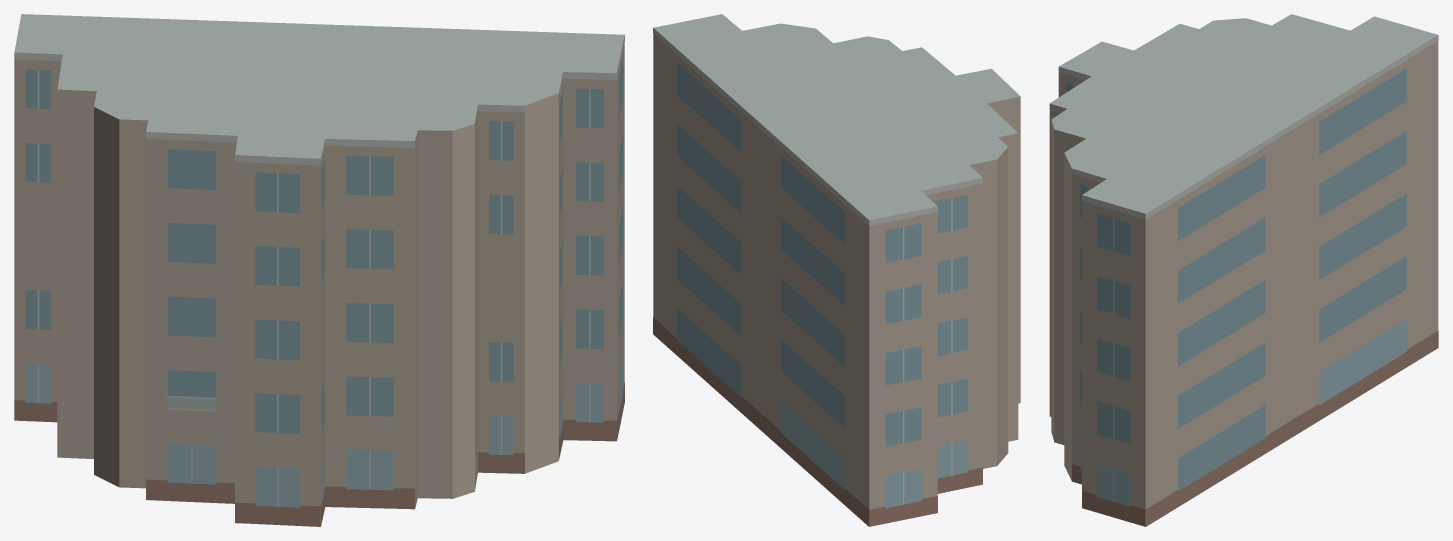
Rendered from survey-upis-32804501.glb.
3 renders of one model, left to right at view 1: azimuth 30°, elevation 25°; view 2: azimuth 150°, elevation 25°; view 3: azimuth 270°, elevation 25°, orthographic. The views are drawn at different scales.
Parts seen in each view (by area): view 1: survey-upis-32804501.tmp; view 2: survey-upis-32804501.tmp; view 3: survey-upis-32804501.tmp.
Boxes of the visible parts, x1,y1,x2,y2 form: survey-upis-32804501.tmp: (14, 14, 624, 526); survey-upis-32804501.tmp: (653, 14, 1020, 526); survey-upis-32804501.tmp: (1049, 14, 1438, 526).
Bounding box in the file's own units: 18.02 × 13.15 × 14.82.
